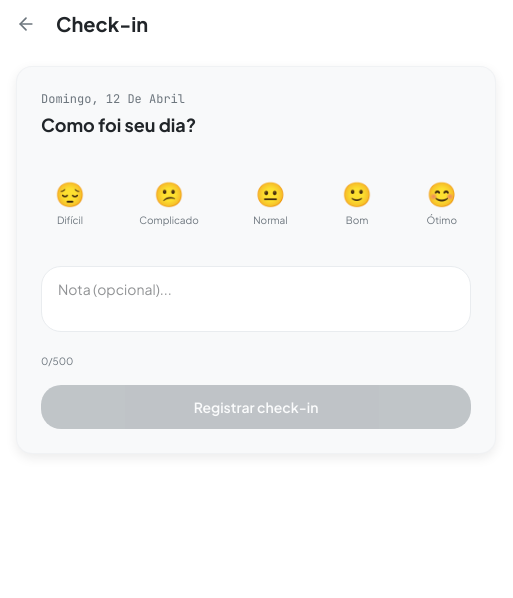
Checkin Page — Friend Streak Feedback › shows 'Fez!' when friend already checked in
What coordinates should you click on to do the following:
click the button "🙂 Bom"
I would click on:
 (357, 202)
Its box is [328,163,386,242].
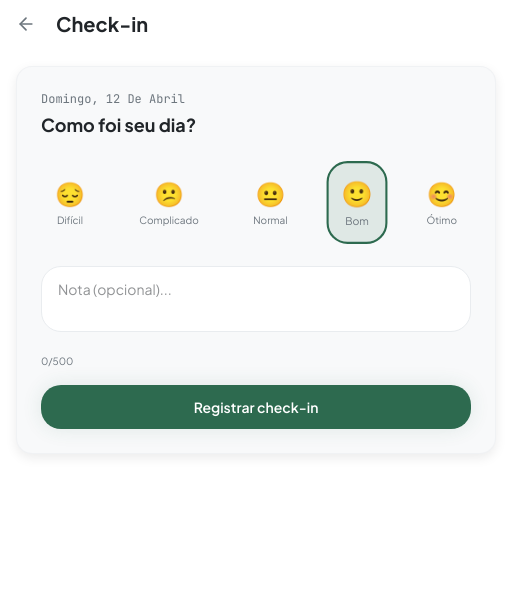
What coordinates should you click on to do the following:
click the button "Registrar check-in"
I would click on:
 (256, 407)
Its box is [41,385,471,429].
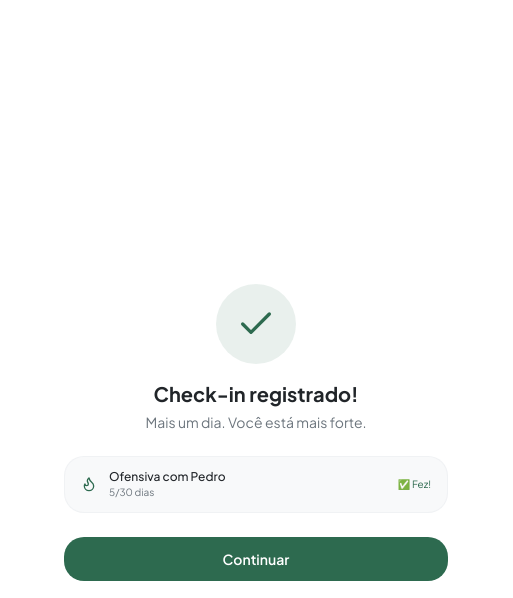
Expected: the text "✅ Fez!" is shown, [398,476,431,492]
